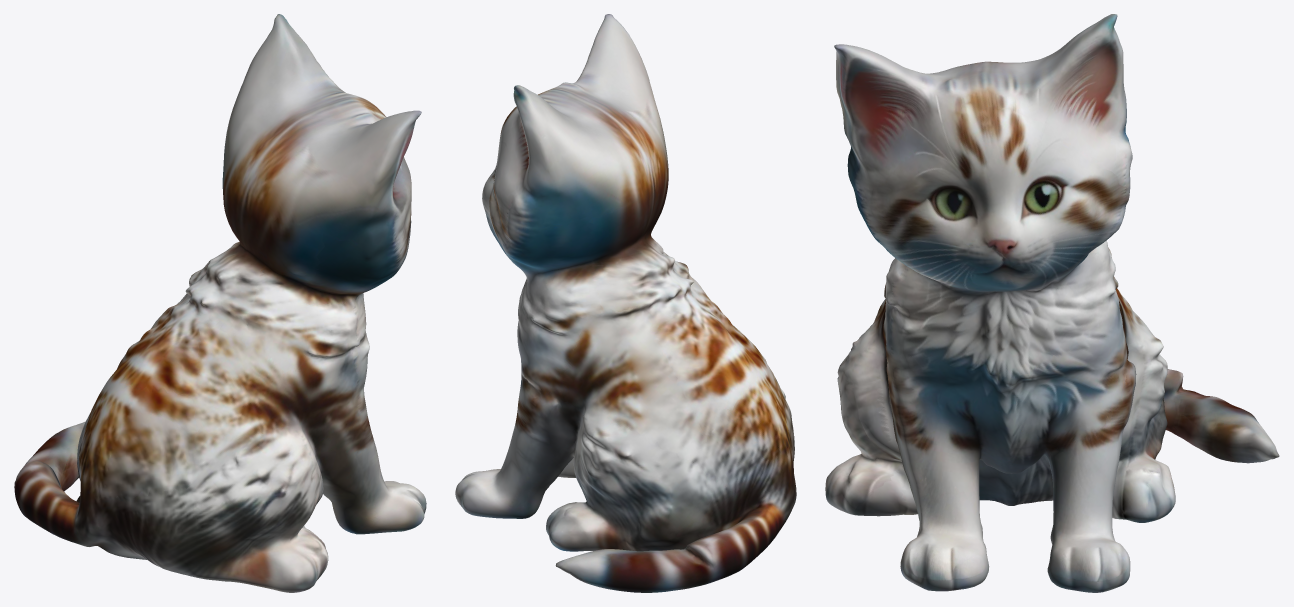
3 views of the same model, side by side, from view 1: azimuth 30°, elevation 25°; view 2: azimuth 150°, elevation 25°; view 3: azimuth 270°, elevation 25° (orthographic). The views are drawn at different scales.
Visible parts, largest first — view 1: tripo_node_46c2e300-0811-42d7-a83e-6429f6ea7c2e; view 2: tripo_node_46c2e300-0811-42d7-a83e-6429f6ea7c2e; view 3: tripo_node_46c2e300-0811-42d7-a83e-6429f6ea7c2e.
Boxes of the visible parts, x1,y1,x2,y2 form: tripo_node_46c2e300-0811-42d7-a83e-6429f6ea7c2e: (14, 14, 426, 592); tripo_node_46c2e300-0811-42d7-a83e-6429f6ea7c2e: (455, 14, 796, 592); tripo_node_46c2e300-0811-42d7-a83e-6429f6ea7c2e: (825, 14, 1279, 592).
Size of the model in its own units: 0.5467 by 0.746 by 0.56.
Materials: 1 (1 with a texture image).
